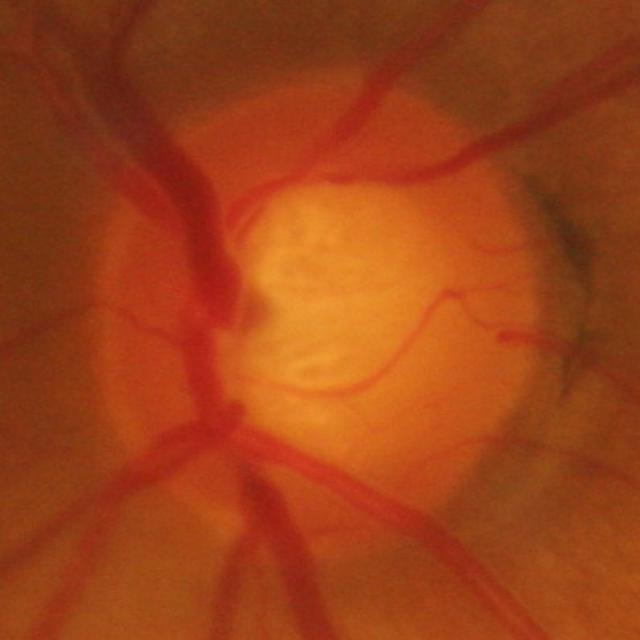OC: (197, 180, 462, 447)
OD: (88, 78, 544, 559)
